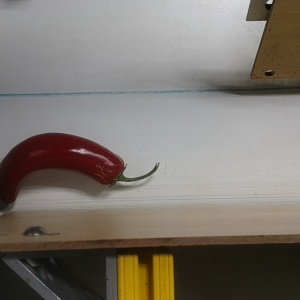Cut Point: (97, 156, 132, 190)
